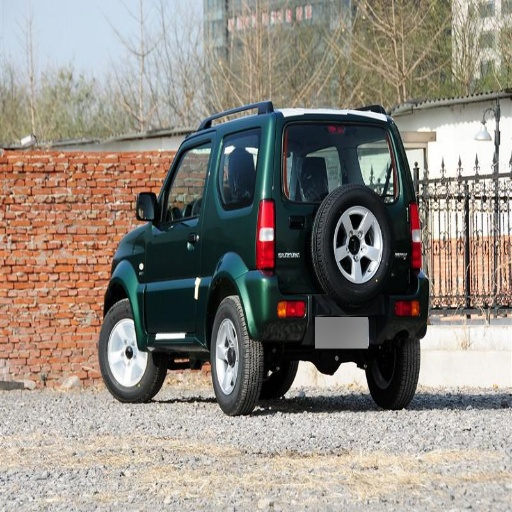trunk: (160, 194, 254, 339), (257, 173, 322, 274)
